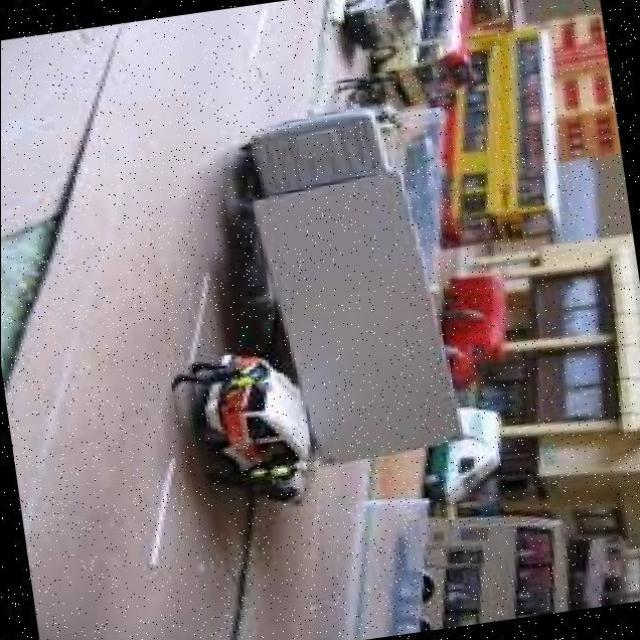accident: (150, 98, 476, 530)
